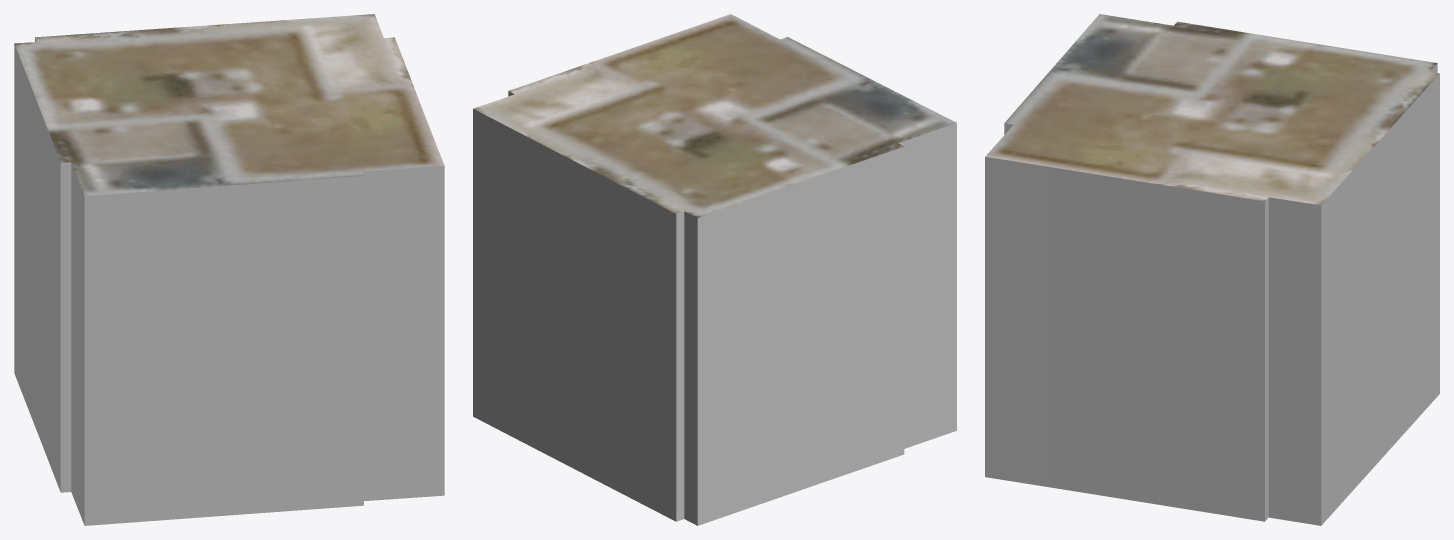
Rendered from DEBW_0010007TxfY.gltf.
3 renders of one model, left to right at view 1: azimuth 30°, elevation 25°; view 2: azimuth 150°, elevation 25°; view 3: azimuth 270°, elevation 25°, orthographic. The views are drawn at different scales.
Parts seen in each view (by area): view 1: Z_UP; view 2: Z_UP; view 3: Z_UP.
Boxes of the visible parts, bbox=[...] form: Z_UP: bbox=[14, 14, 444, 525]; Z_UP: bbox=[473, 14, 956, 525]; Z_UP: bbox=[985, 14, 1439, 525].
Size of the model in its own units: 19.57 by 15.26 by 19.63.
Materials: 2 (1 with a texture image).
